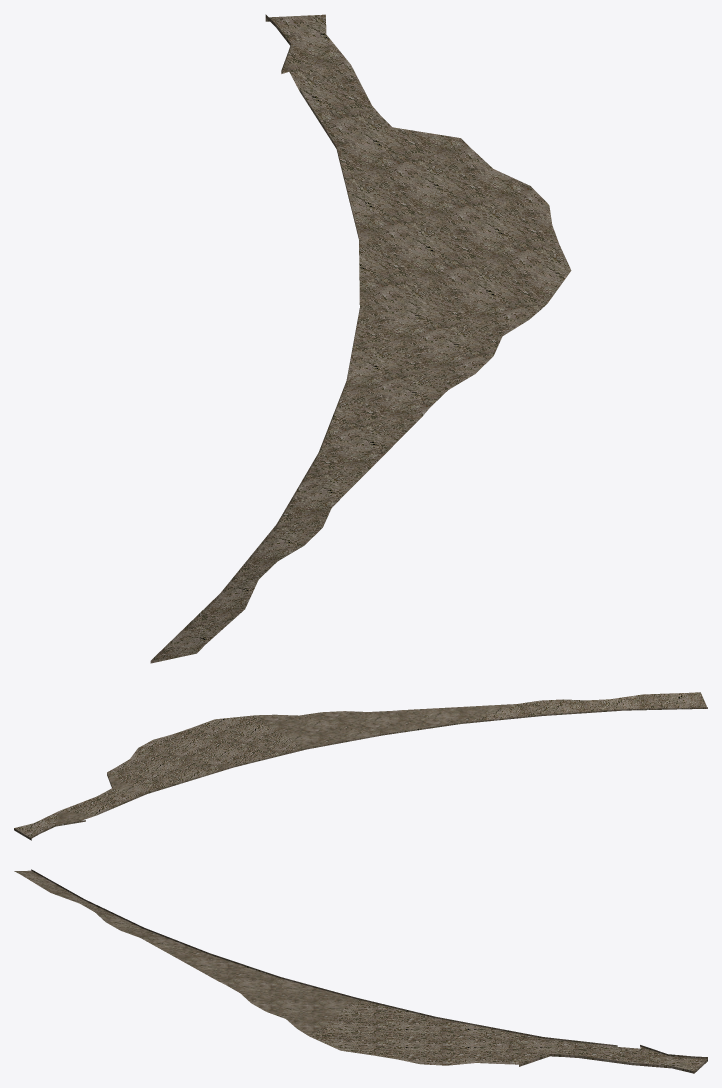
File: lodfftestgrnd03.obj
3 views of the same model, one above another, from view 1: azimuth 30°, elevation 25°; view 2: azimuth 150°, elevation 25°; view 3: azimuth 270°, elevation 25° (orthographic). The views are drawn at different scales.
Parts seen in each view (by area): view 1: LODfftestgrnd03; view 2: LODfftestgrnd03; view 3: LODfftestgrnd03.
Boxes of the visible parts, x1,y1,x2,y2 form: LODfftestgrnd03: (150,14,571,663); LODfftestgrnd03: (14,692,707,840); LODfftestgrnd03: (14,869,707,1073).
Size of the model in its own units: 164 by 3.45 by 230.
Materials: 1 (1 with a texture image).
